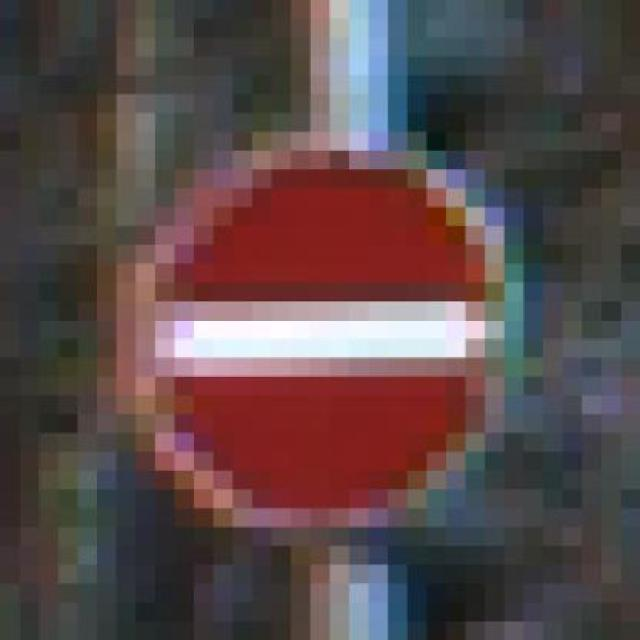No Entry: (97, 93, 563, 564)
